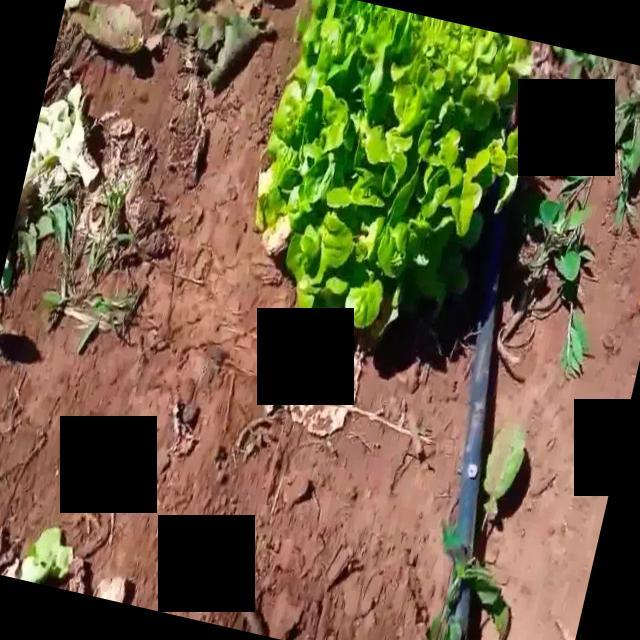Lettuce: (251, 0, 535, 338)
